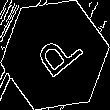P_SW: (26, 25, 84, 85)
